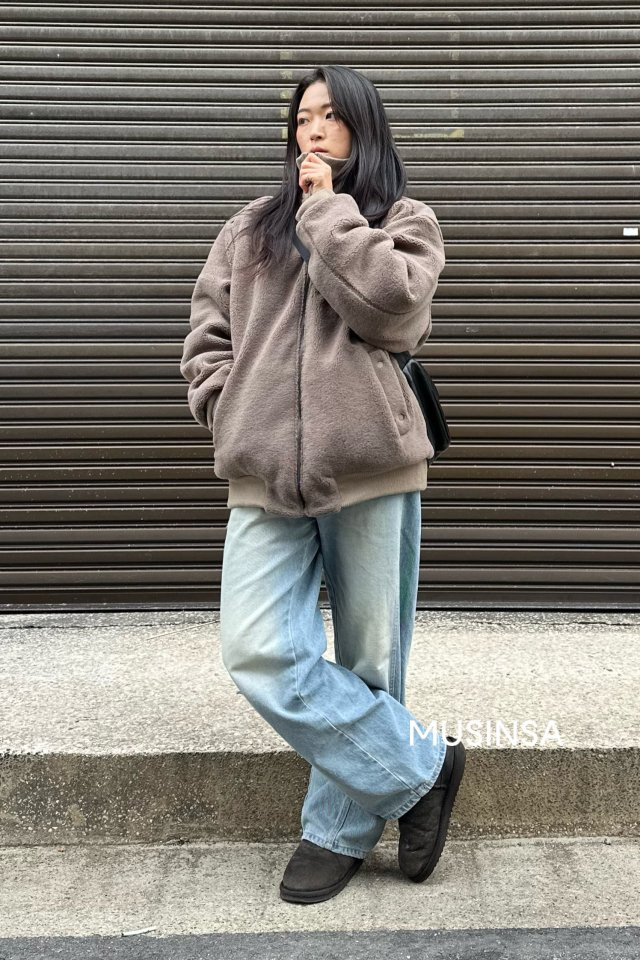Bag: (395, 353, 455, 458)
Outer: (167, 176, 442, 510)
Pants: (211, 484, 431, 845)
Shoes: (277, 733, 474, 912)
